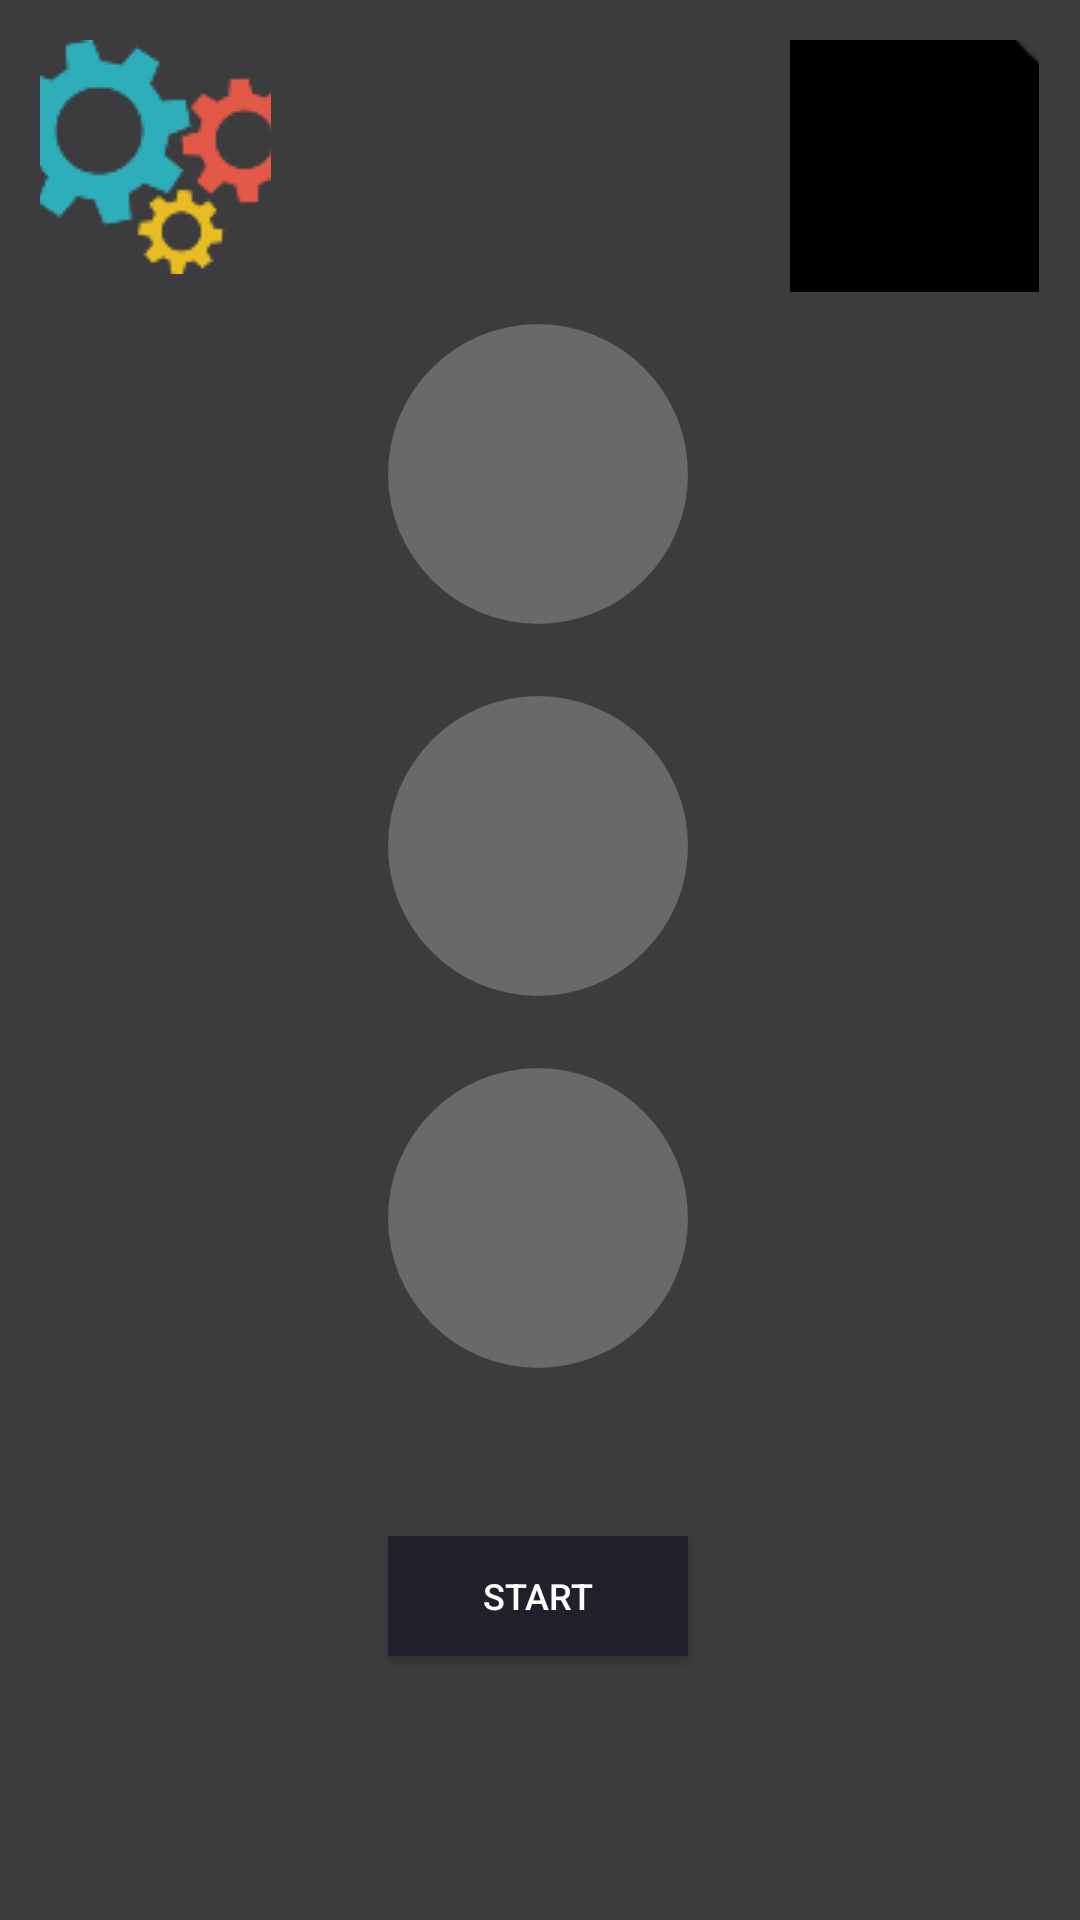

Icon bounding boxes for this 1080*1920 phone screenshot, format {"x1": x1, "y1": y1, "x2": x2, "y2": y2}:
gear: {"x1": 40, "y1": 40, "x2": 271, "y2": 274}
